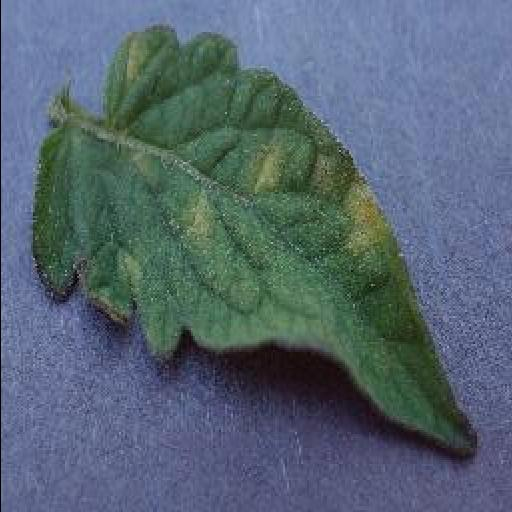disease_tomato: (30, 22, 478, 452)
